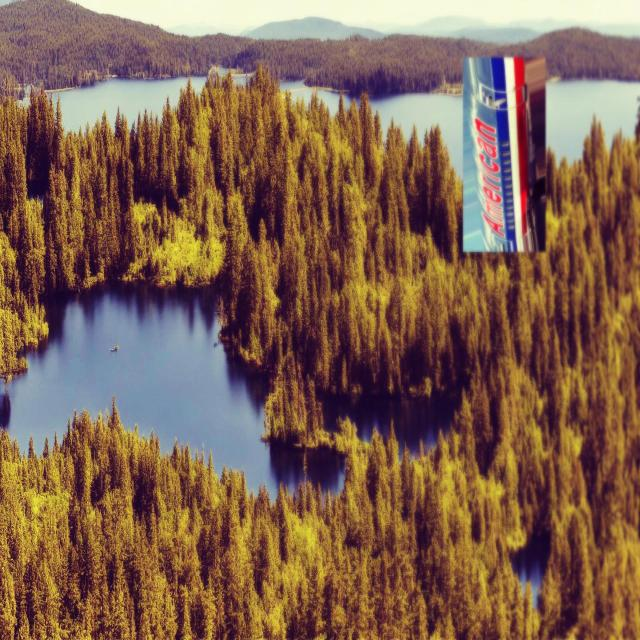airplane: (462, 55, 547, 253)
